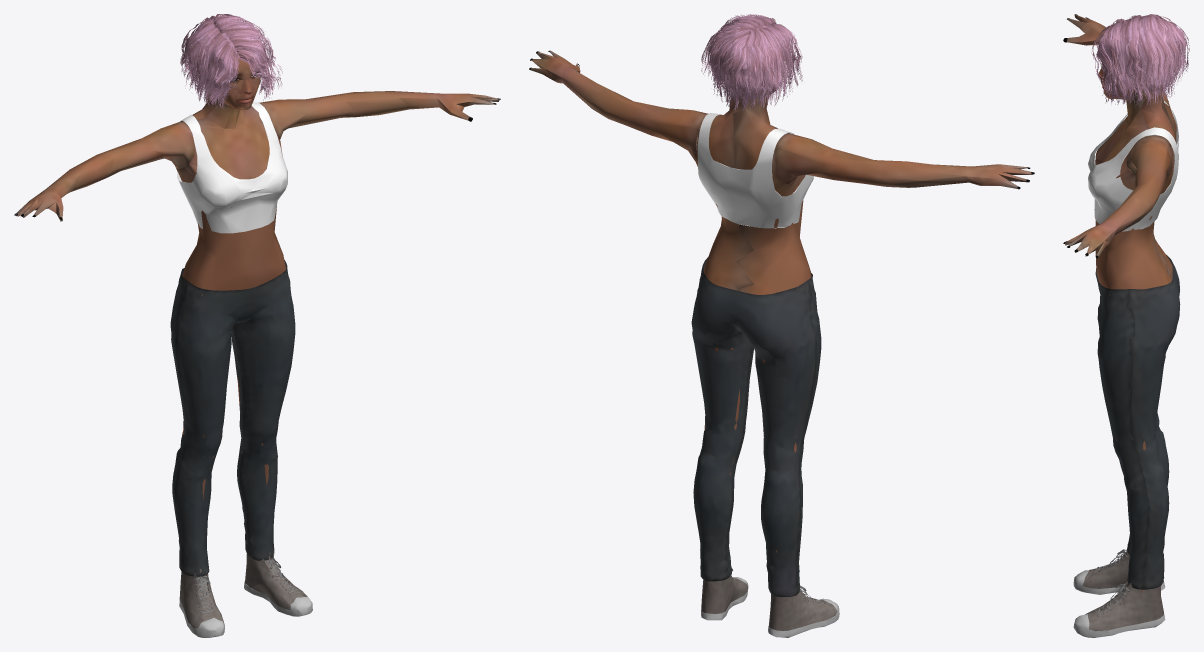
File: female_sammie.glb
3 views of the same model, side by side, from view 1: azimuth 30°, elevation 25°; view 2: azimuth 150°, elevation 25°; view 3: azimuth 270°, elevation 25° (orthographic). The views are drawn at different scales.
Visible parts, largest first — view 1: female_sammie; view 2: female_sammie; view 3: female_sammie.
Part boxes in pixels (<box>): female_sammie: <box>14,14,500,637</box>; female_sammie: <box>529,14,1034,637</box>; female_sammie: <box>1063,14,1189,637</box>.
Bounding box in the file's own units: 1.43 × 1.66 × 0.3201.
Materials: 2 (2 with a texture image).
